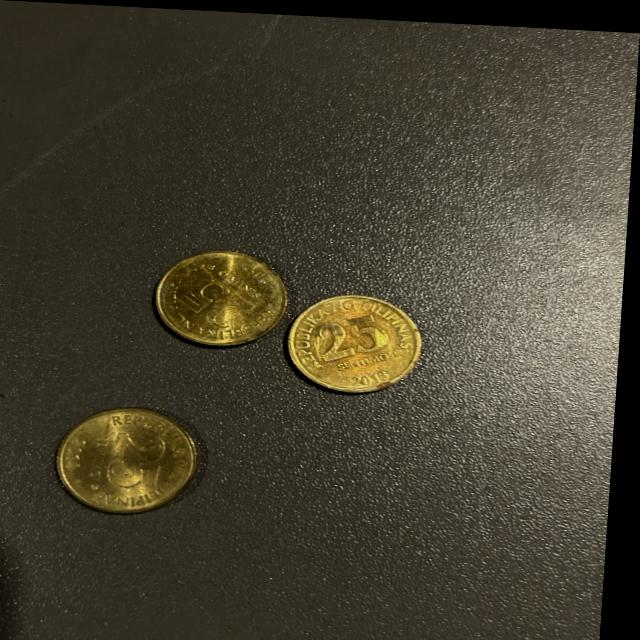25Cent_Old_Front: (180, 252, 268, 336), (308, 300, 405, 372)
